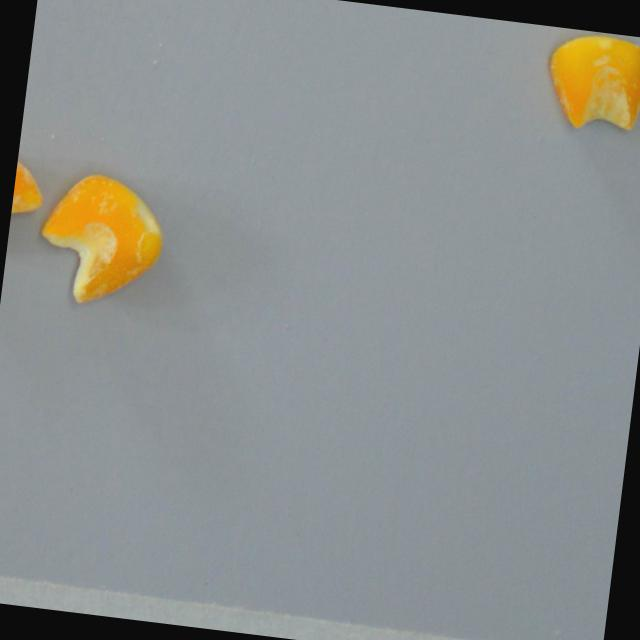pelicula: (34, 169, 170, 312), (541, 29, 640, 135), (6, 153, 49, 258)
